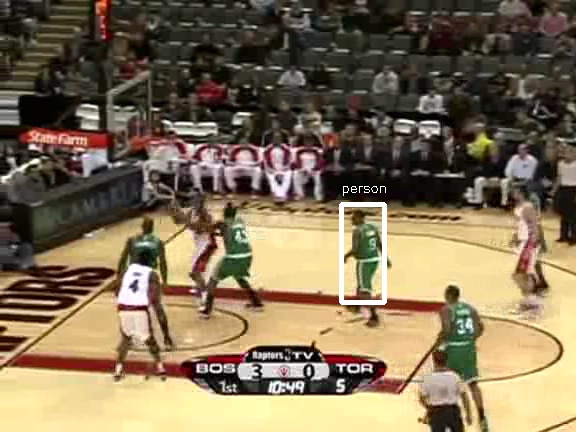person: (351, 214, 385, 295), (350, 214, 384, 295), (352, 214, 386, 295), (351, 213, 385, 294), (351, 215, 385, 296)
target_negative: (320, 67, 437, 360), (52, 135, 282, 271), (12, 217, 537, 252), (132, 197, 171, 402), (374, 29, 479, 72), (563, 309, 566, 321)
